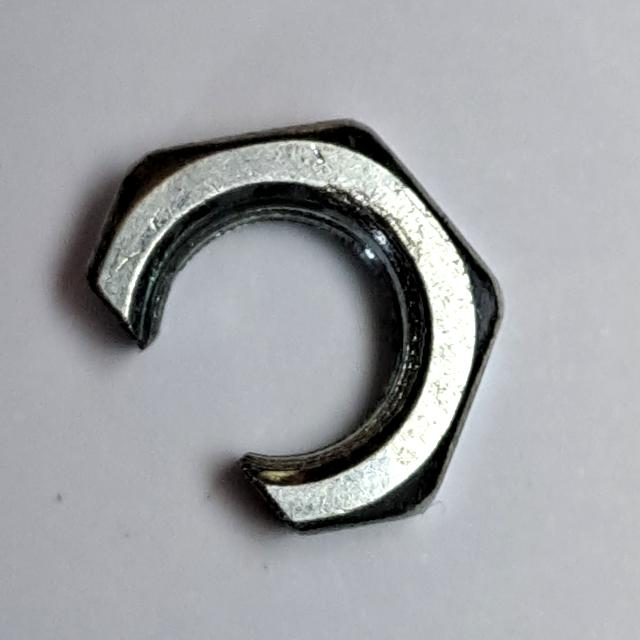Fracture: (72, 109, 513, 544)
